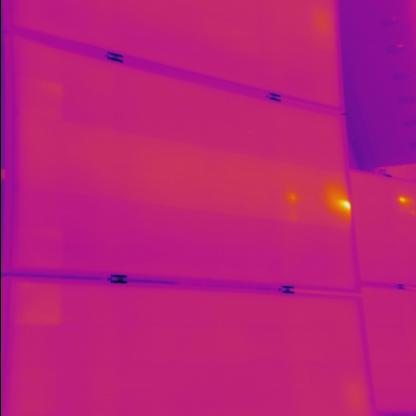hotspot: (329, 193, 353, 216), (396, 196, 414, 216)
